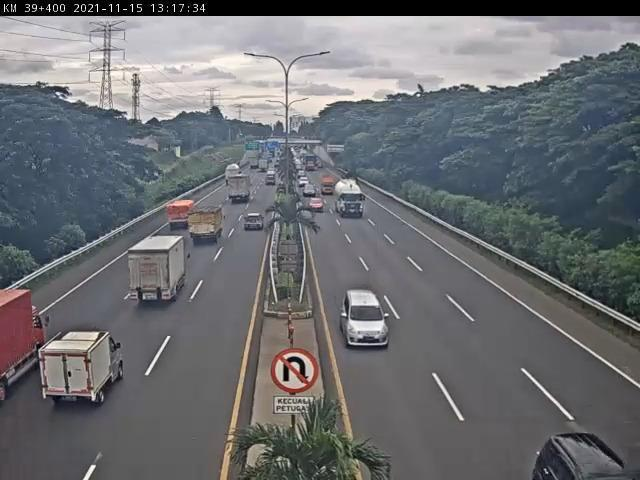car: (340, 291, 392, 352), (245, 211, 266, 233), (309, 199, 327, 216)
truck: (42, 329, 125, 409), (1, 289, 47, 410), (130, 233, 189, 306), (189, 207, 225, 248), (335, 178, 367, 218), (168, 200, 198, 232), (227, 175, 256, 204)
